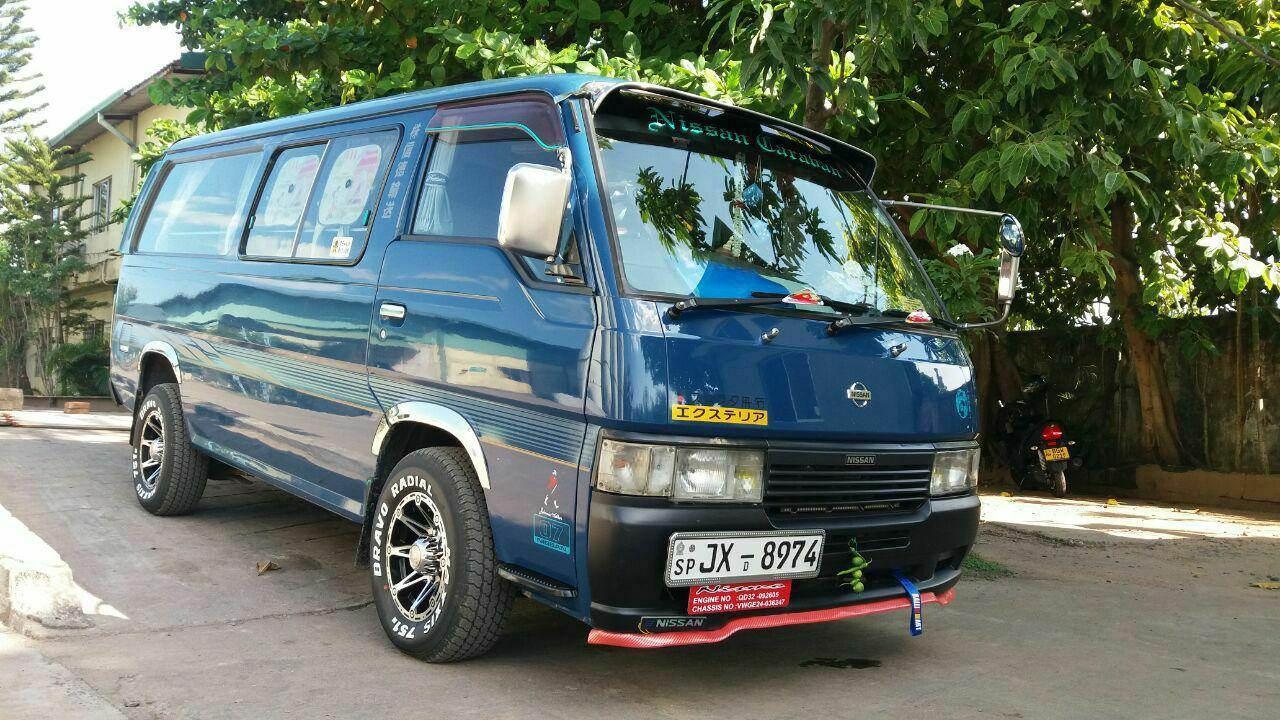car: (102, 75, 979, 659)
motorbike: (998, 376, 1080, 498)
